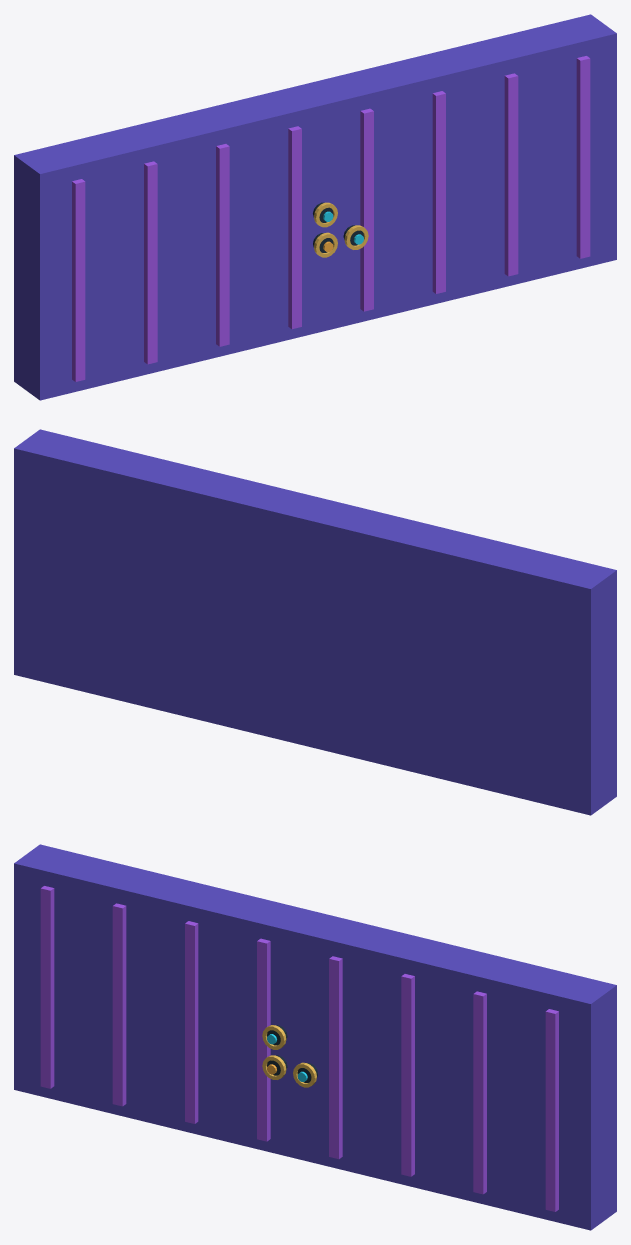
Rendered from 14_L83_EarthShadowOccluderStage.fbx.
The picture shows the model from 3 angles, top to bottom: view 1: azimuth 30°, elevation 25°; view 2: azimuth 150°, elevation 25°; view 3: azimuth 330°, elevation 25°; orthographic projection.
Visible parts, largest first — view 1: EarthShadowOccluderStage; view 2: EarthShadowOccluderStage; view 3: EarthShadowOccluderStage.
Boxes of the visible parts, x1=… form: EarthShadowOccluderStage: x1=14, y1=14, x2=616, y2=400; EarthShadowOccluderStage: x1=14, y1=429, x2=616, y2=815; EarthShadowOccluderStage: x1=14, y1=844, x2=616, y2=1230.
Bounding box in the file's own units: 320 × 120 × 40.2.
